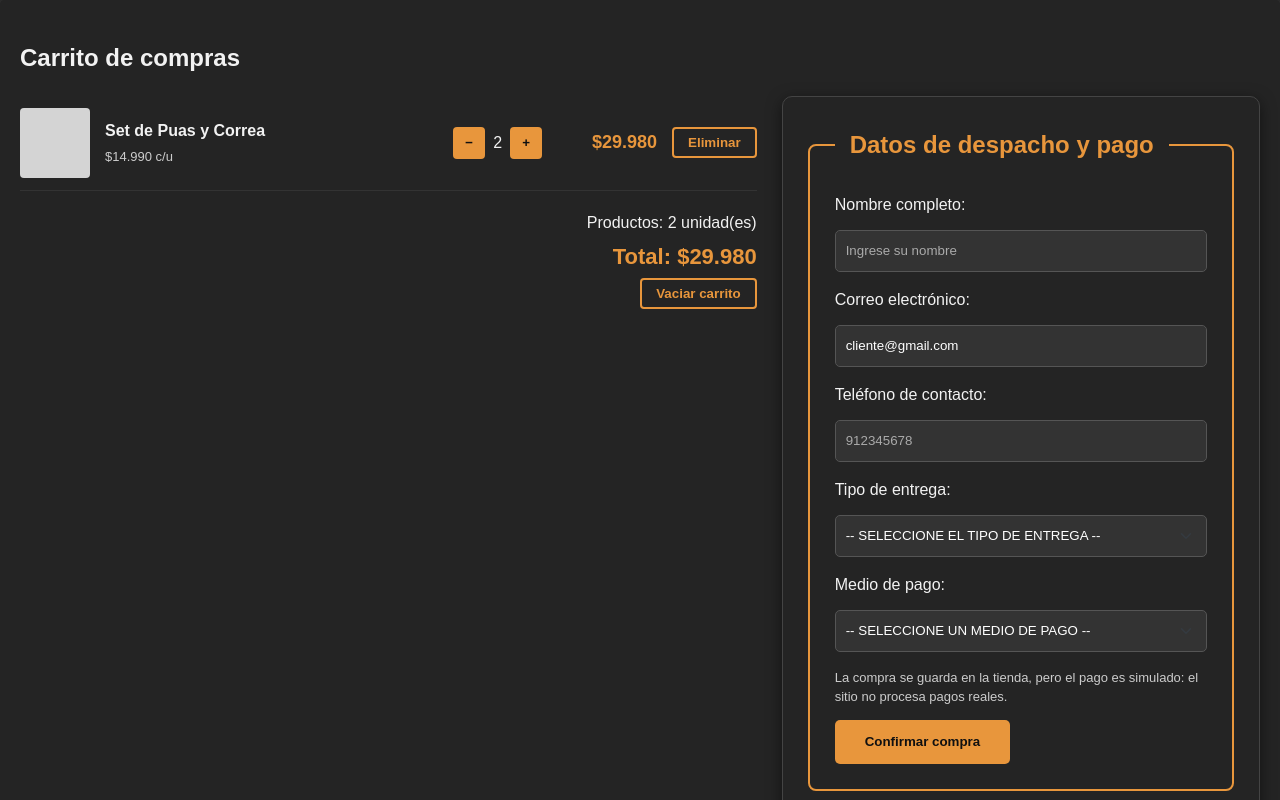
Scenario: Carrito › PU-044: con sesión USER guarda la compra en la API (ids de pago y entrega) y muestra el n° de venta
Type "Camila Rojas" into the field labelled "Nombre completo:" at (1021, 251), box [835,230,1207,272]
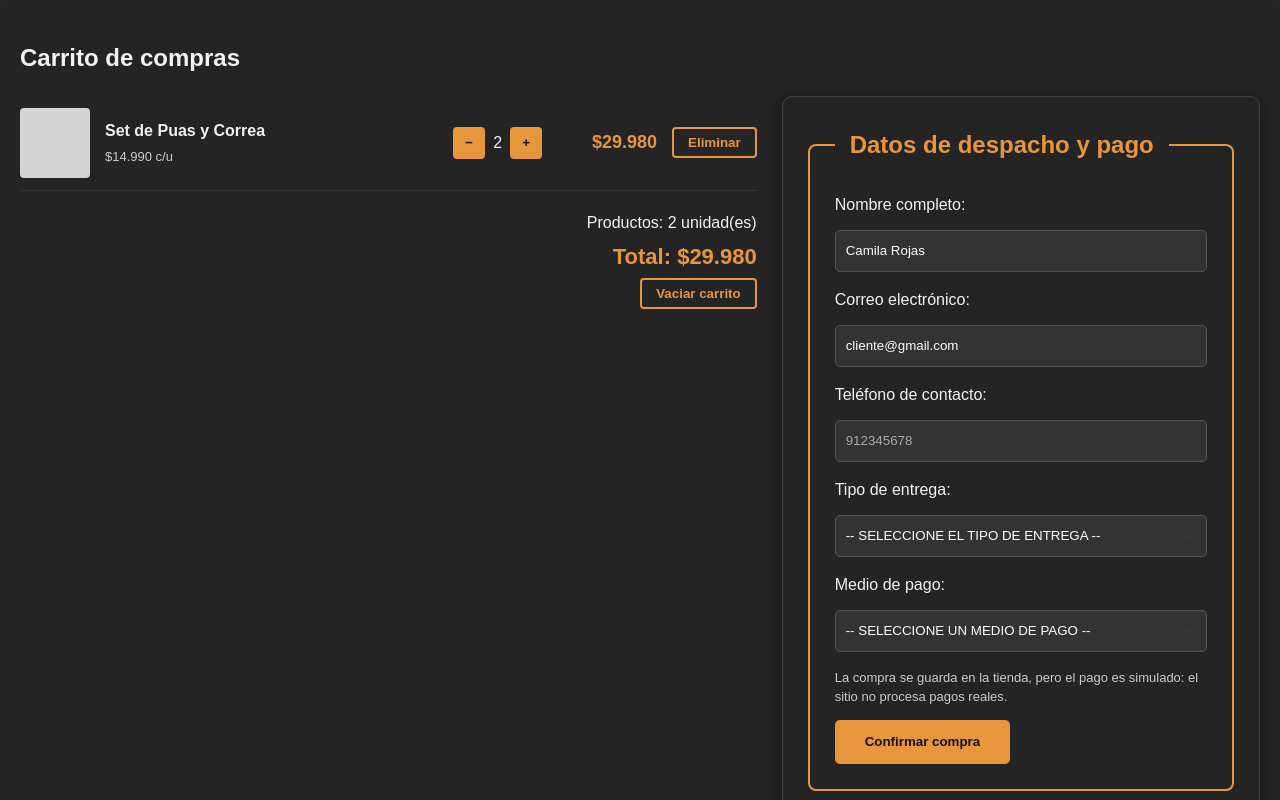
Type "987654321" into the field labelled "Teléfono de contacto:" at (1021, 441), box [835,420,1207,462]
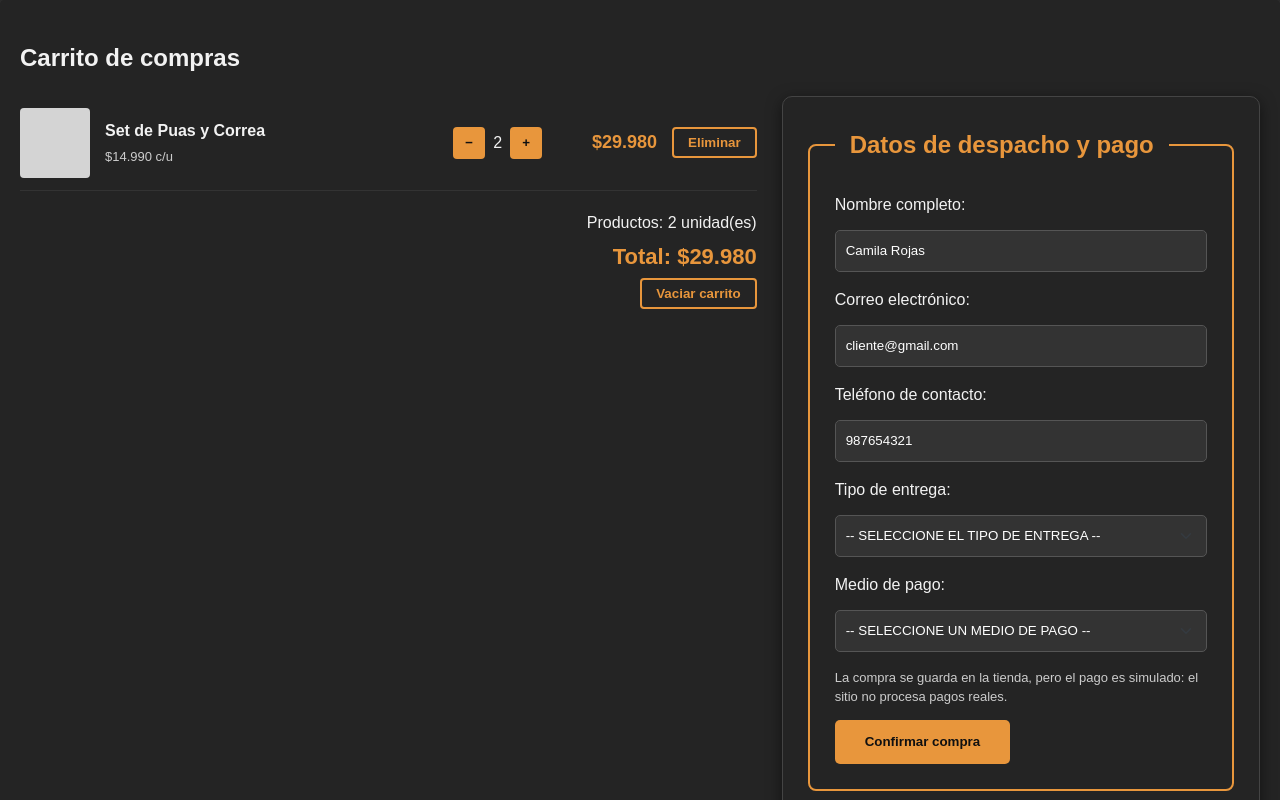
Select "Retiro en tienda (Viña del Mar)" in the dropdown labelled "Tipo de entrega:" at (1021, 536), box [835,515,1207,557]
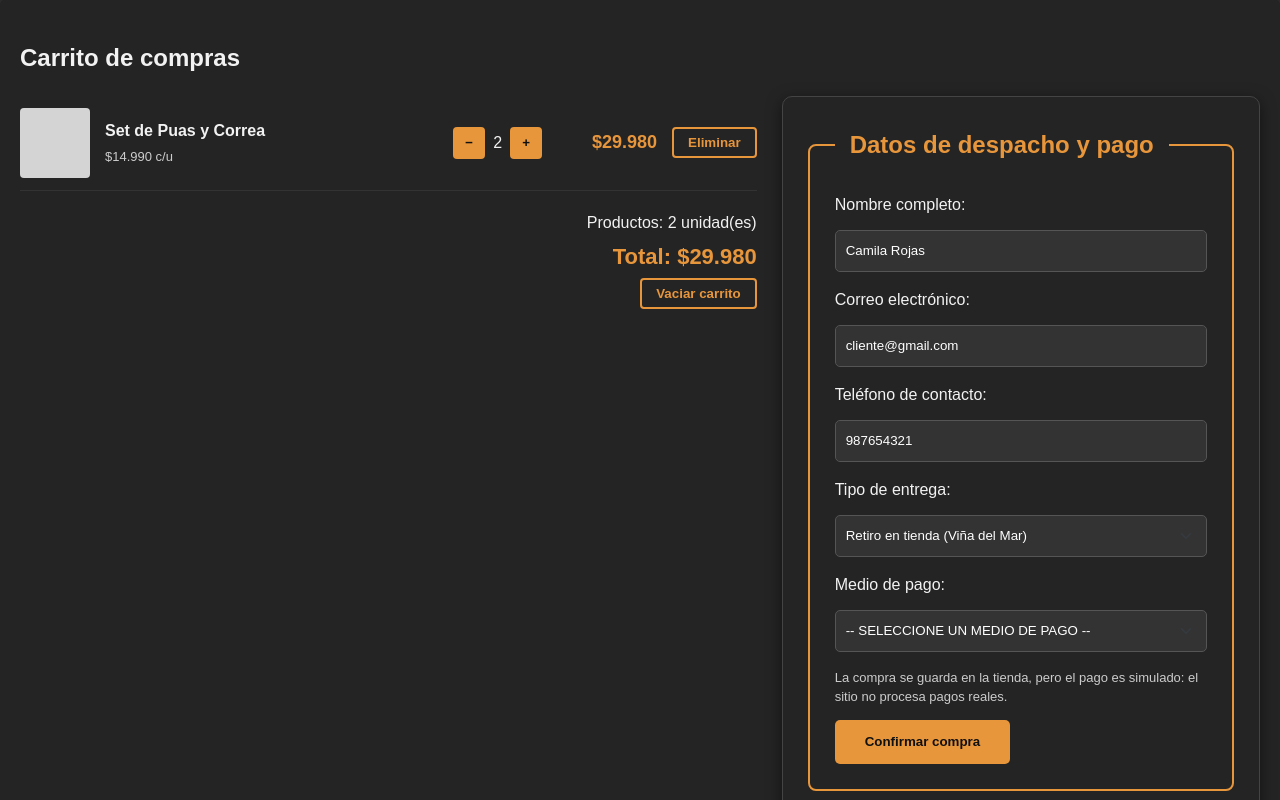
Select "Tarjeta de débito" in the dropdown labelled "Medio de pago:" at (1021, 631), box [835,610,1207,652]
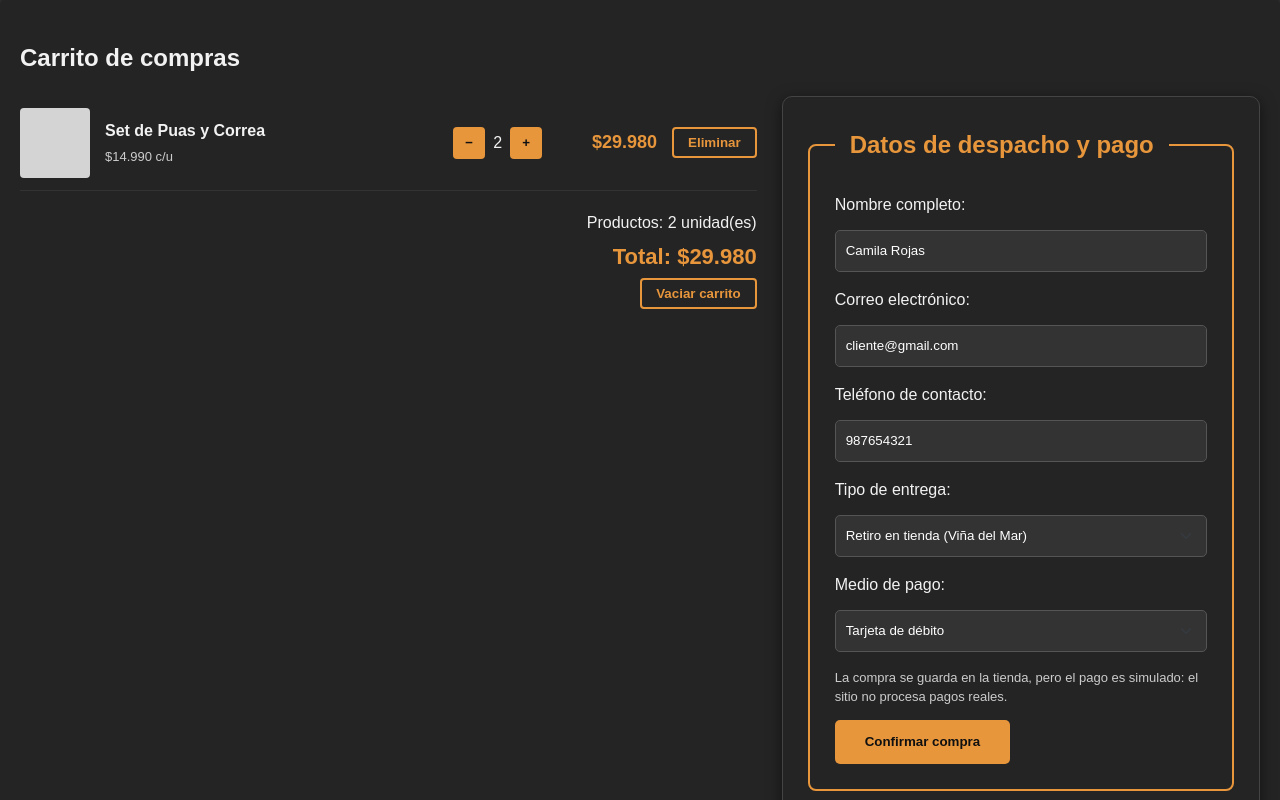
Click the button "Confirmar compra" at (922, 742), box [835,720,1010,764]
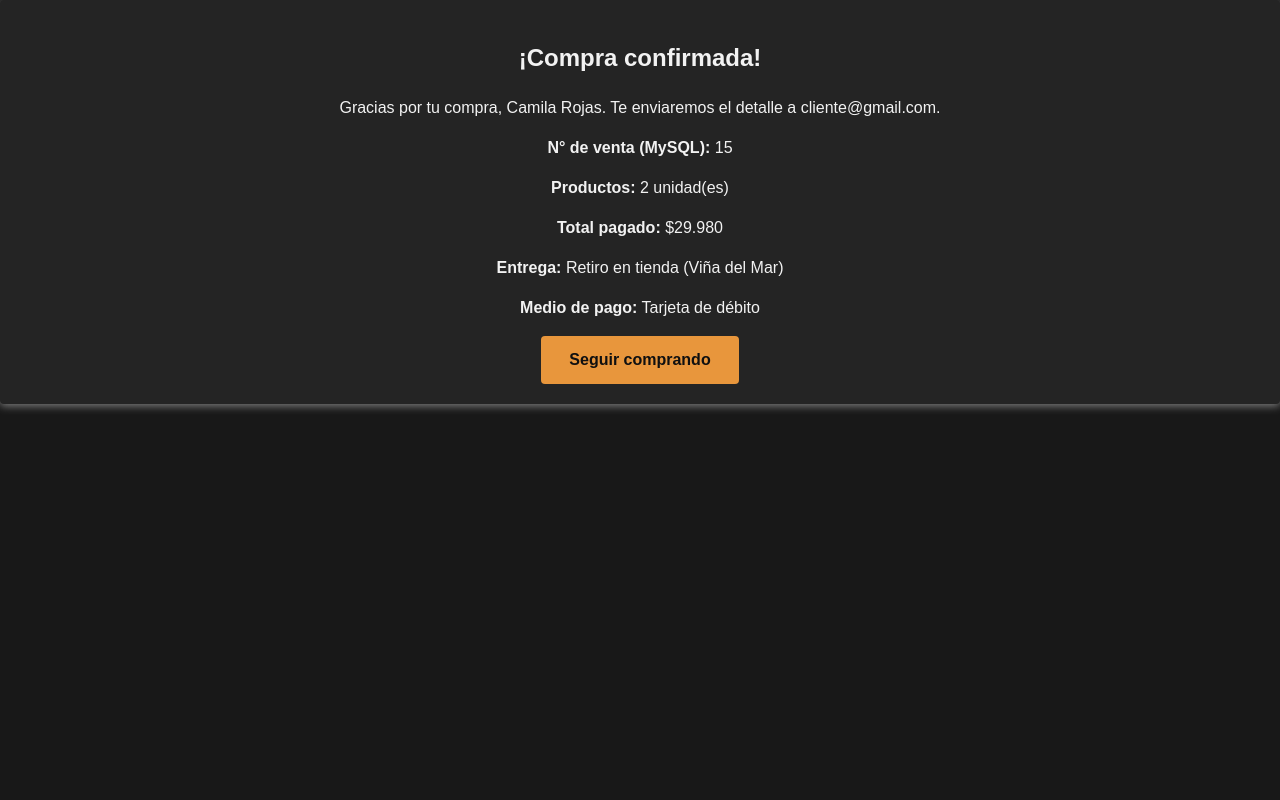
Check: the heading "¡Compra confirmada!" is shown, box [519,44,761,71]
Check: the text "15" is shown, box [715,139,733,156]
